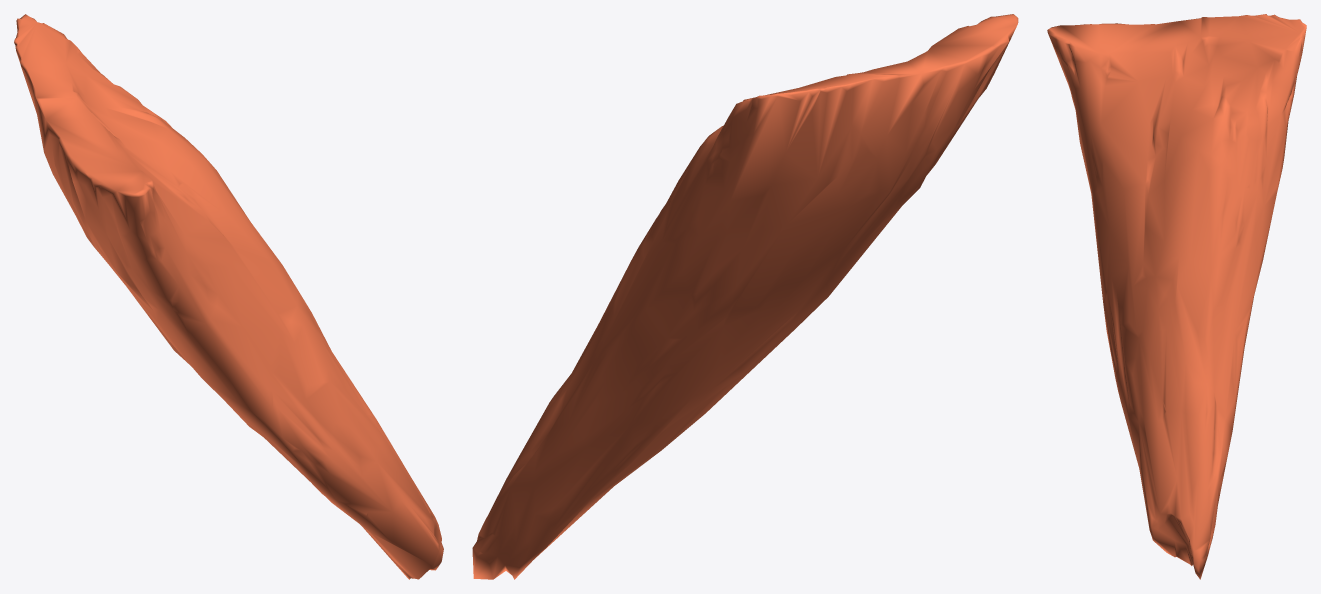
File: Rectus_capitis_posterior_major_right.glb
3 renders of one model, left to right at view 1: azimuth 30°, elevation 25°; view 2: azimuth 150°, elevation 25°; view 3: azimuth 270°, elevation 25°, orthographic. The views are drawn at different scales.
Visible parts, largest first — view 1: Rectus_posterior_major_capitis_muscle.r_Generated_Mesh_From_; view 2: Rectus_posterior_major_capitis_muscle.r_Generated_Mesh_From_; view 3: Rectus_posterior_major_capitis_muscle.r_Generated_Mesh_From_.
Part boxes in pixels (x1,y1,x2,y2): Rectus_posterior_major_capitis_muscle.r_Generated_Mesh_From_: (14,14,443,579); Rectus_posterior_major_capitis_muscle.r_Generated_Mesh_From_: (472,14,1018,579); Rectus_posterior_major_capitis_muscle.r_Generated_Mesh_From_: (1047,14,1306,579).
Bounding box in the file's own units: 0.0353 × 0.0467 × 0.0253.
